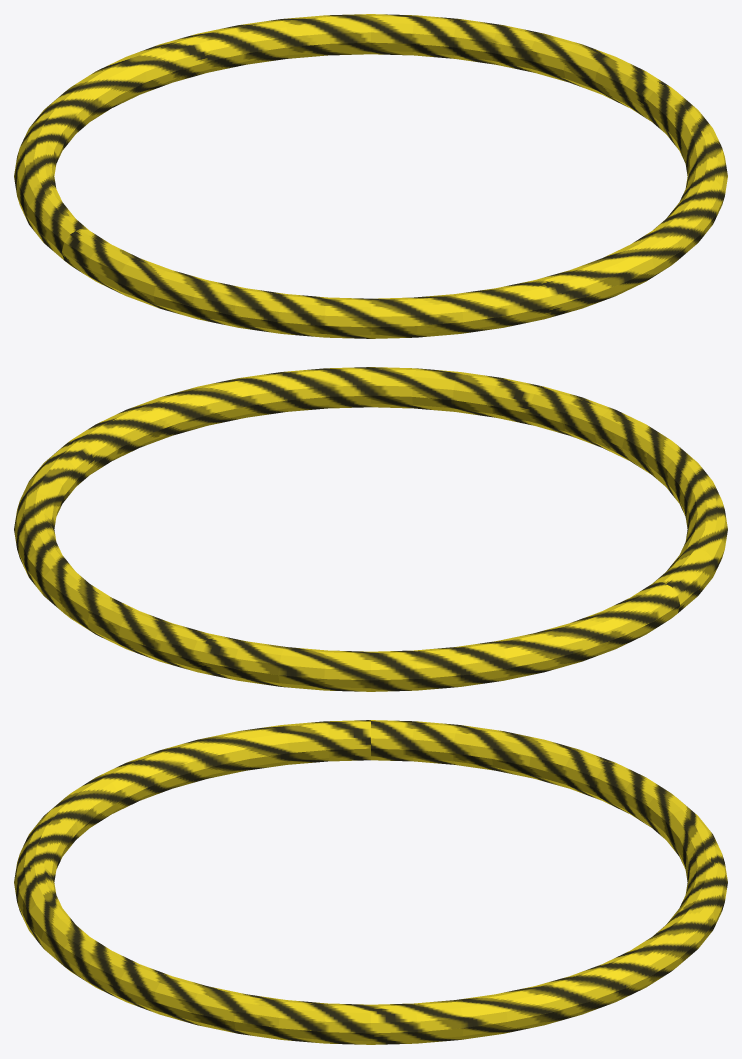
The model's file is Rope.fbx.
The picture shows the model from 3 angles, top to bottom: view 1: azimuth 30°, elevation 25°; view 2: azimuth 150°, elevation 25°; view 3: azimuth 270°, elevation 25°; orthographic projection.
Parts seen in each view (by area): view 1: Torus; view 2: Torus; view 3: Torus.
Part boxes in pixels (left/top/right/bottom): Torus: left=14, top=14, right=727, bottom=338; Torus: left=14, top=367, right=727, bottom=691; Torus: left=14, top=720, right=727, bottom=1044.
Size of the model in its own units: 1.93 by 1.93 by 0.1095.
Materials: 1 (1 with a texture image).
